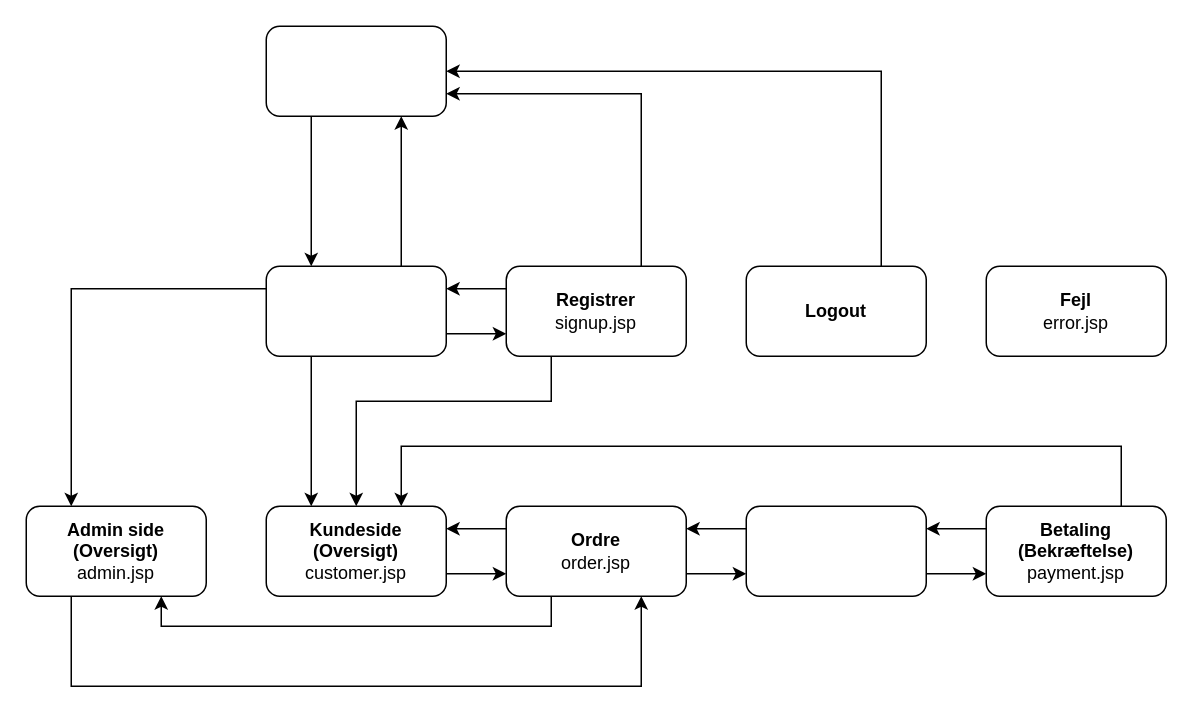
The diagram is 1193 pixels wide and 725 high, and some of its shapes have lost their labels. Here are the shapes that lost their labels. From the top down, the box of each, then its label:
(265, 25, 446, 116): Forsiden (Forespørgsel) index.jsp
(265, 265, 446, 356): Login login.jsp
(745, 505, 926, 596): Ordreoversigt checkout.jsp
